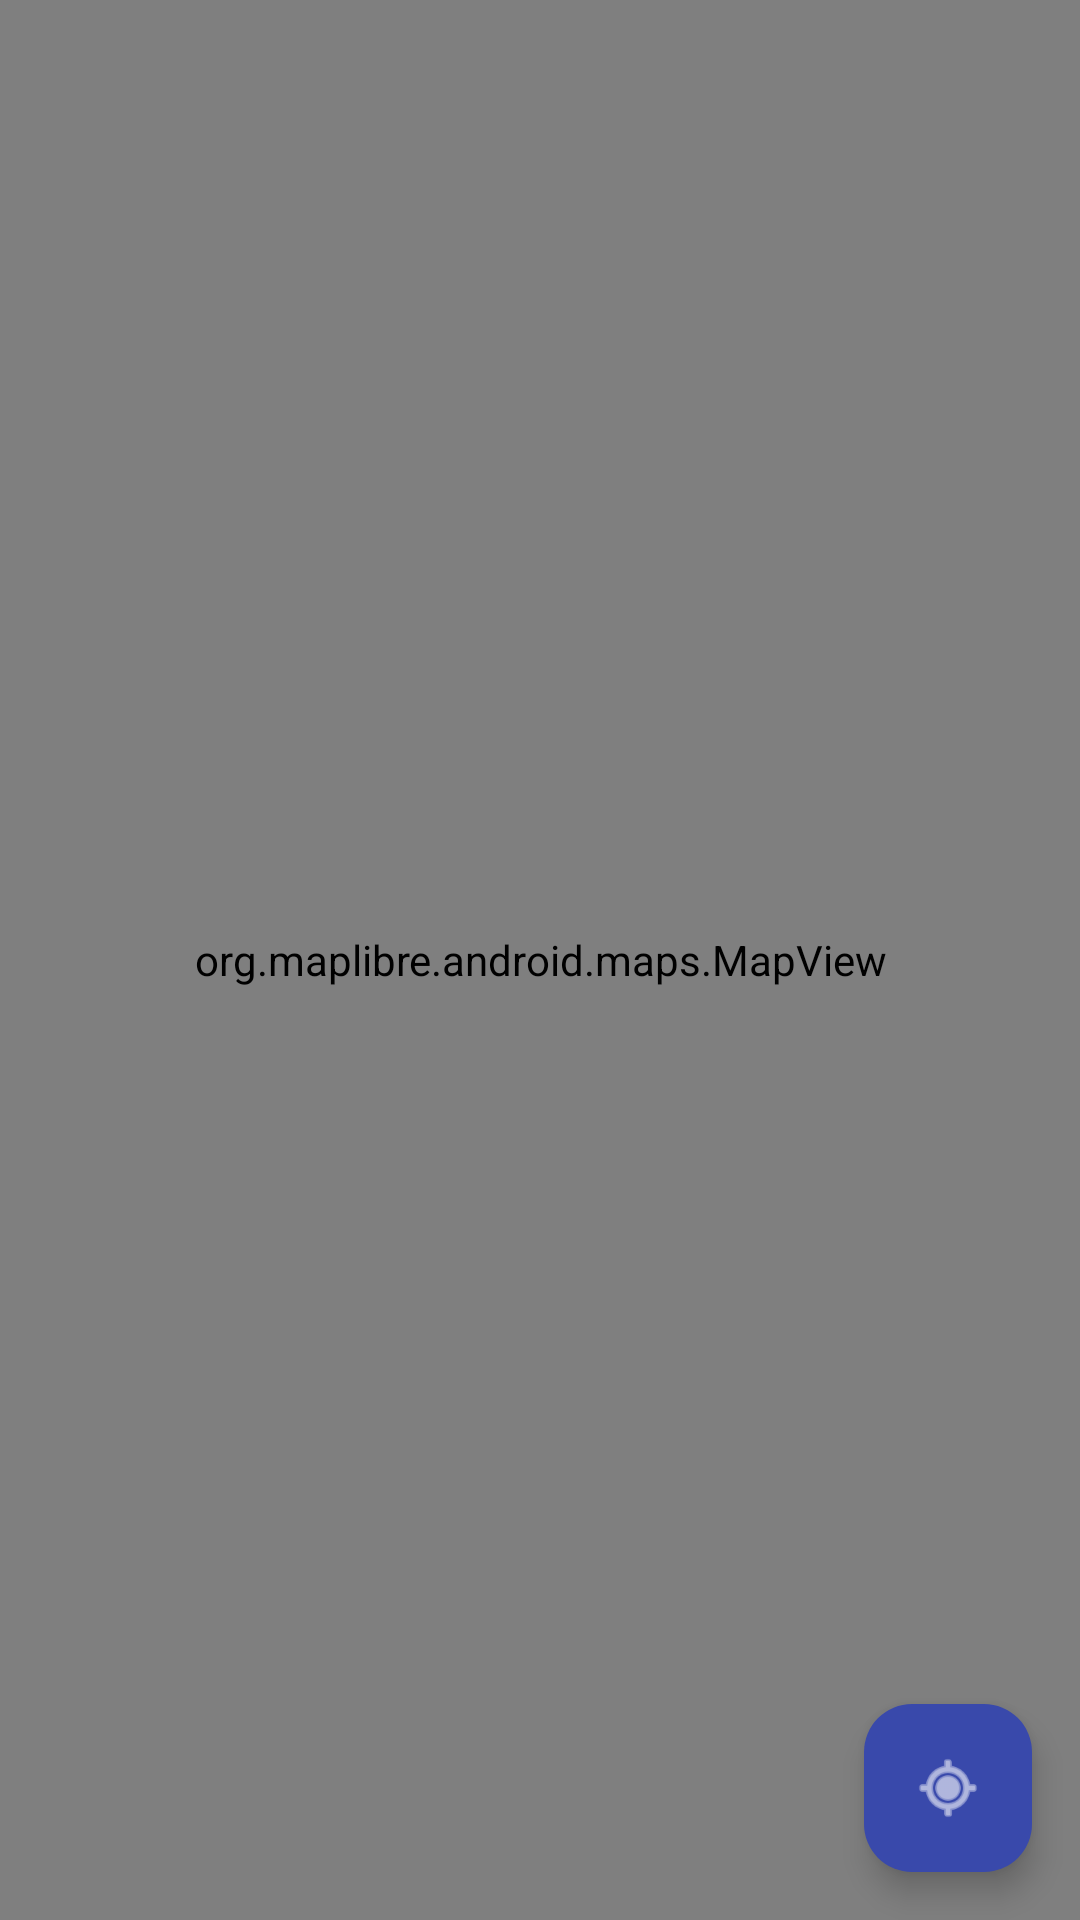

Screen size 1080×1920. Icon name, then its box in pixels as (x1, y1, x2, y2):
mylocation: (864, 1704, 1032, 1872)
